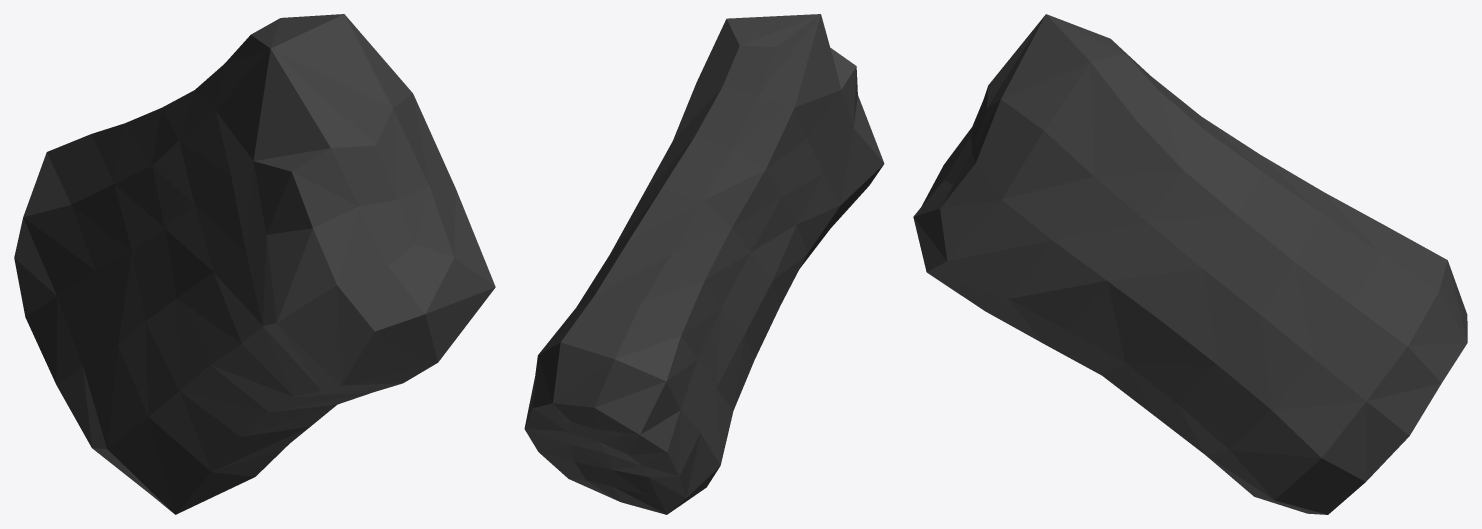
3 views of the same model, side by side, from view 1: azimuth 30°, elevation 25°; view 2: azimuth 150°, elevation 25°; view 3: azimuth 270°, elevation 25° (orthographic). The views are drawn at different scales.
Parts seen in each view (by area): view 1: SB_2; view 2: SB_2; view 3: SB_2.
Part boxes in pixels (<box>): SB_2: <box>14,14,495,514</box>; SB_2: <box>524,14,884,514</box>; SB_2: <box>913,14,1467,514</box>.
Bounding box in the file's own units: 0.6037 × 1.32 × 1.45.
Materials: 1 (1 with a texture image).
